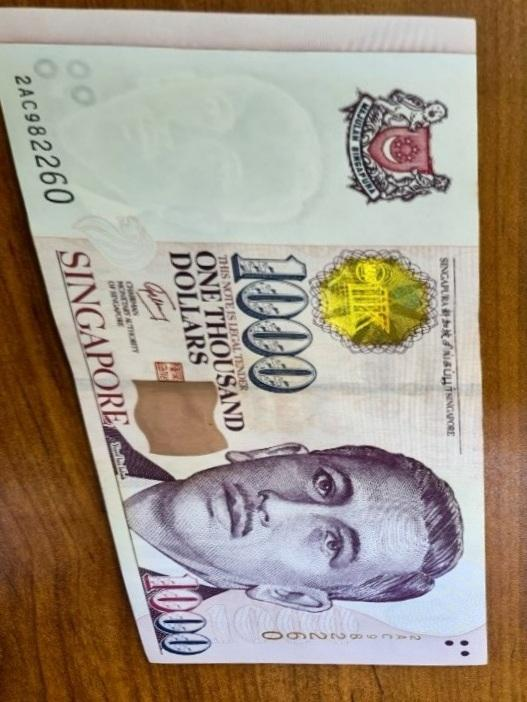1000SingaporeDollar: (13, 24, 475, 662)
